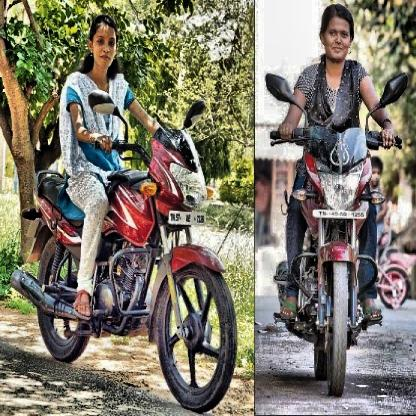not_wear: (322, 6, 353, 61), (89, 17, 117, 69)
